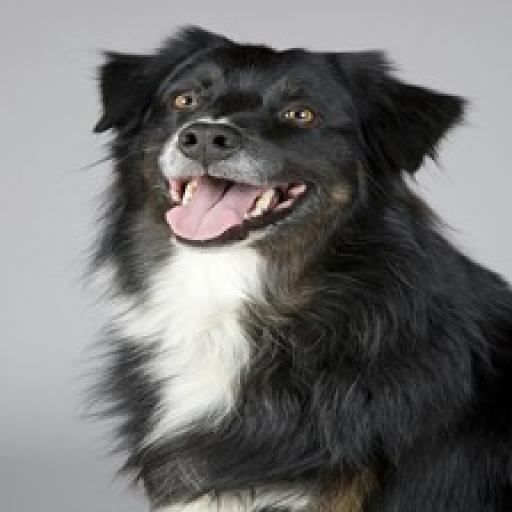dog: (78, 20, 512, 512)
